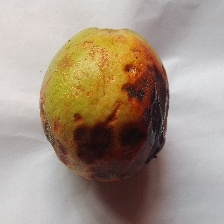guava: (29, 25, 167, 183)
